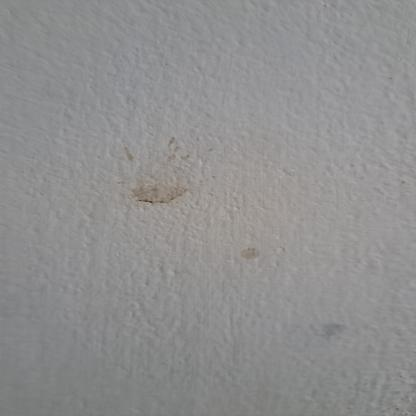spot: (98, 123, 231, 211), (313, 310, 361, 348), (230, 243, 274, 263)
